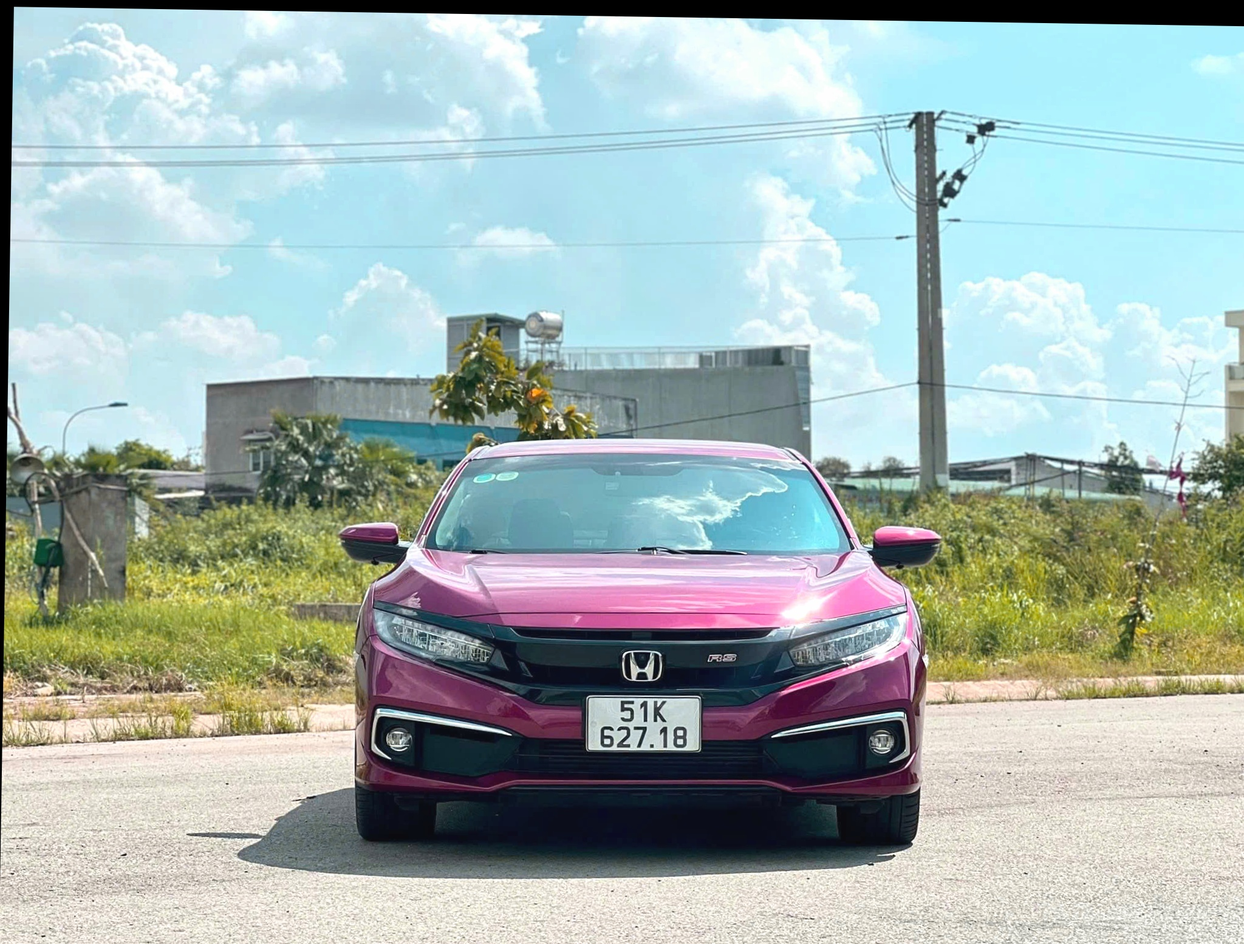Bien-so: (570, 694, 694, 755)
